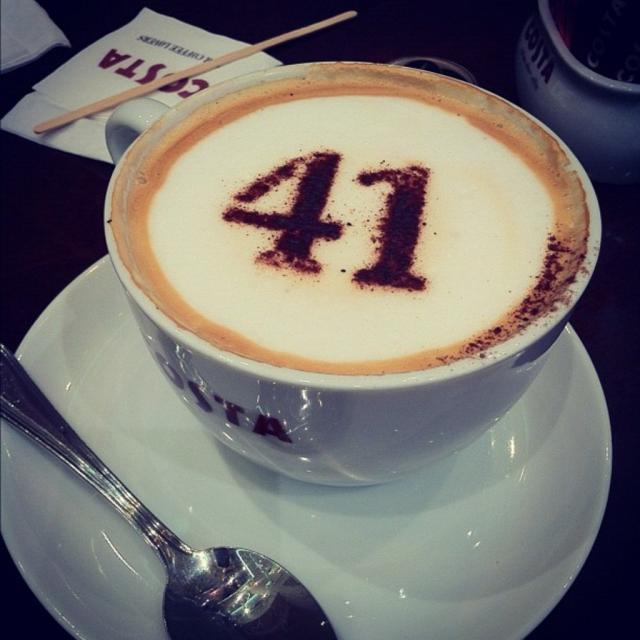Coffee: (101, 37, 588, 502)
